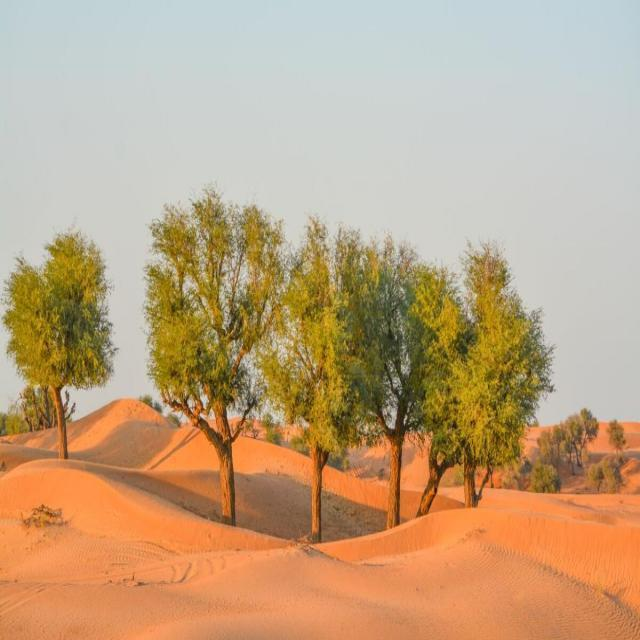tree: (144, 180, 282, 524), (412, 240, 556, 506), (269, 216, 377, 540), (2, 223, 118, 464), (344, 240, 420, 528), (535, 406, 601, 494)
